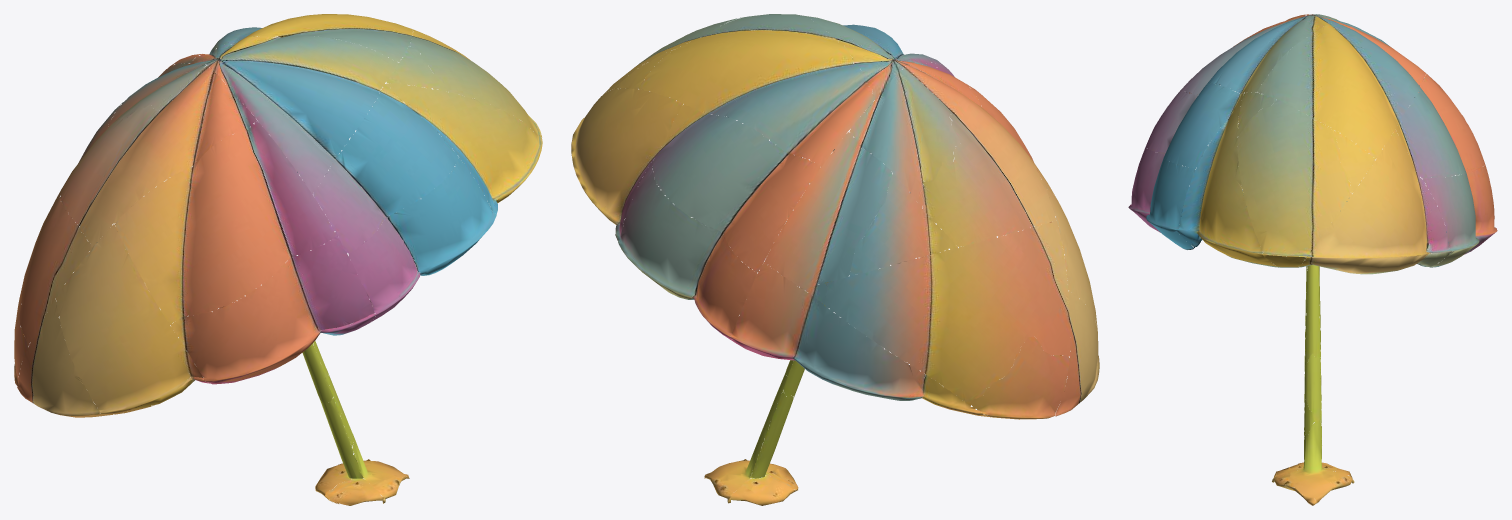
The model's file is sombrilla.glb.
3 views of the same model, side by side, from view 1: azimuth 30°, elevation 25°; view 2: azimuth 150°, elevation 25°; view 3: azimuth 270°, elevation 25° (orthographic). The views are drawn at different scales.
Visible parts, largest first — view 1: tripo_node_01017b93-c6db-4aeb-8914-46cf5dc907c1; view 2: tripo_node_01017b93-c6db-4aeb-8914-46cf5dc907c1; view 3: tripo_node_01017b93-c6db-4aeb-8914-46cf5dc907c1.
Boxes of the visible parts, x1,y1,x2,y2 form: tripo_node_01017b93-c6db-4aeb-8914-46cf5dc907c1: [14, 14, 542, 505]; tripo_node_01017b93-c6db-4aeb-8914-46cf5dc907c1: [571, 14, 1099, 505]; tripo_node_01017b93-c6db-4aeb-8914-46cf5dc907c1: [1128, 14, 1497, 505].
Bounding box in the file's own units: 1 × 0.928 × 0.7387.
1 material, 1 textured.
